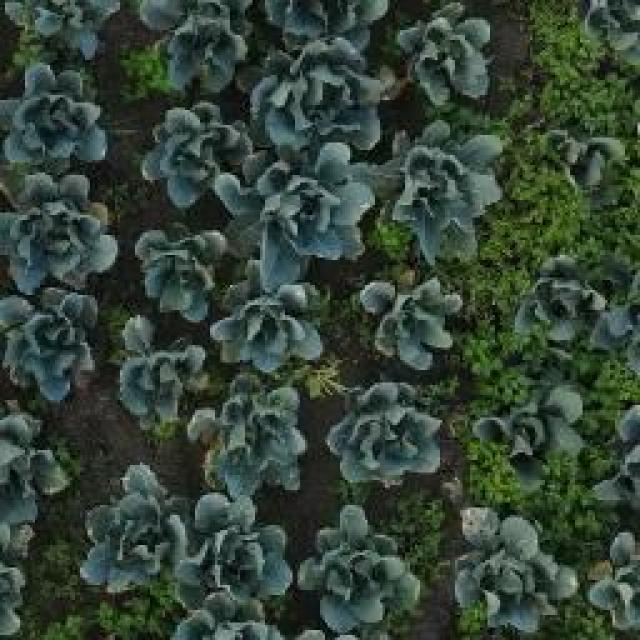cabbage: (395, 2, 505, 120), (394, 129, 494, 237), (458, 514, 560, 618), (326, 388, 434, 486), (250, 164, 362, 258), (0, 182, 108, 278), (304, 520, 407, 618), (482, 376, 582, 473), (207, 392, 305, 490), (92, 488, 194, 582), (184, 508, 290, 598), (272, 54, 380, 142), (358, 273, 458, 365), (518, 251, 609, 347), (222, 279, 311, 369), (5, 296, 101, 379), (8, 78, 102, 157), (154, 112, 236, 194), (540, 116, 624, 196), (134, 232, 218, 312), (116, 336, 200, 416), (168, 12, 247, 92)
